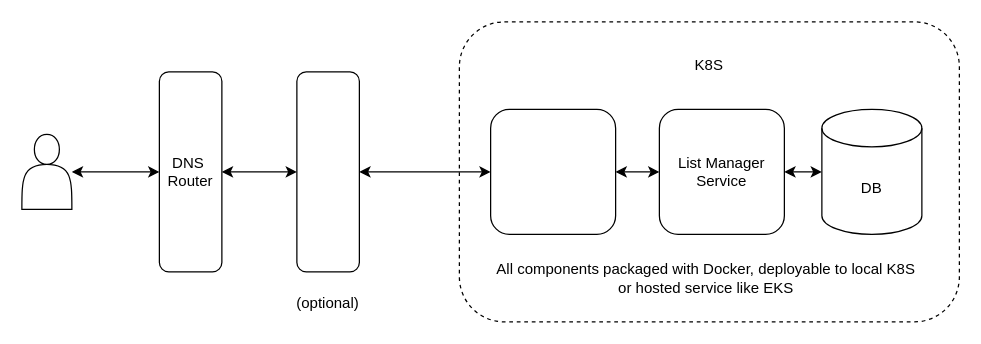
Image size: 981x344. Some labels were removed from this diagram. The centre of each missing label's shape, as x and y in pixels:
Load Balancer: point (327, 171)
UI: point (552, 171)
